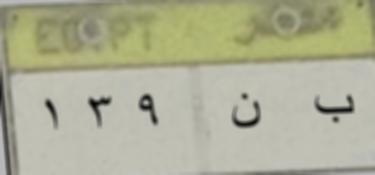1: (37, 88, 66, 136)
3: (83, 90, 116, 132)
9: (134, 90, 162, 134)
baa: (310, 85, 358, 128)
noon: (225, 84, 266, 132)
